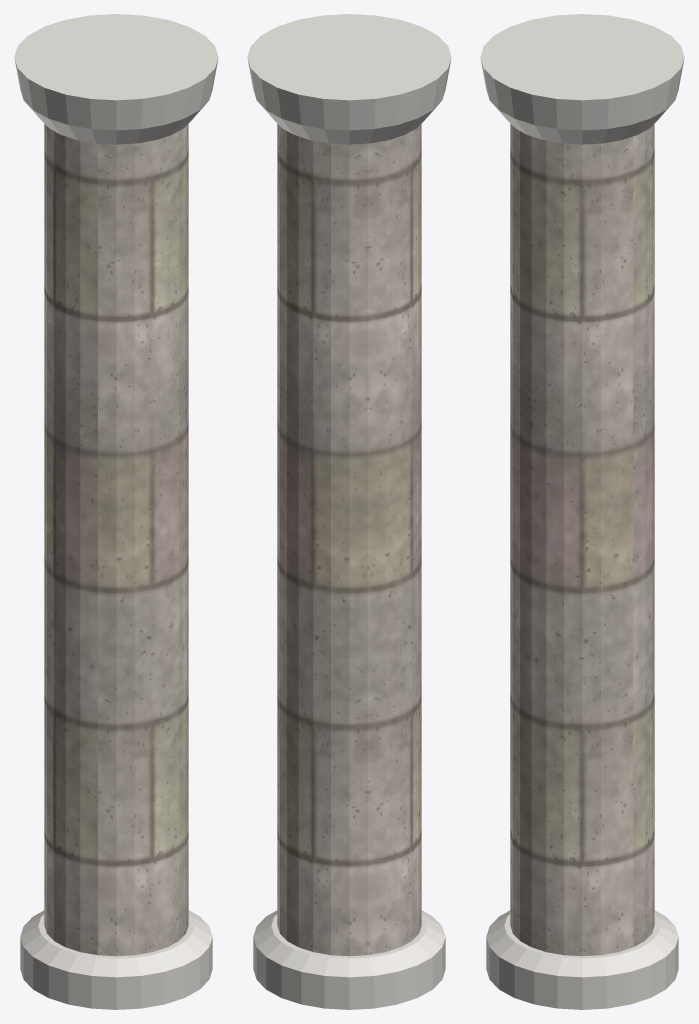
File: column.glb
3 renders of one model, left to right at view 1: azimuth 30°, elevation 25°; view 2: azimuth 150°, elevation 25°; view 3: azimuth 270°, elevation 25°, orthographic.
Visible parts, largest first — view 1: column_stone_f, column_cill; view 2: column_stone_f, column_cill; view 3: column_stone_f, column_cill.
Part boxes in pixels (x1,y1,x2,y2): column_stone_f: (44,124,188,956); column_cill: (14,14,218,1009); column_stone_f: (277,124,421,956); column_cill: (247,14,451,1009); column_stone_f: (510,124,654,956); column_cill: (480,14,684,1009).
Bounding box in the file's own units: 0.68 × 3.35 × 0.68.
Materials: 2 (1 with a texture image).
